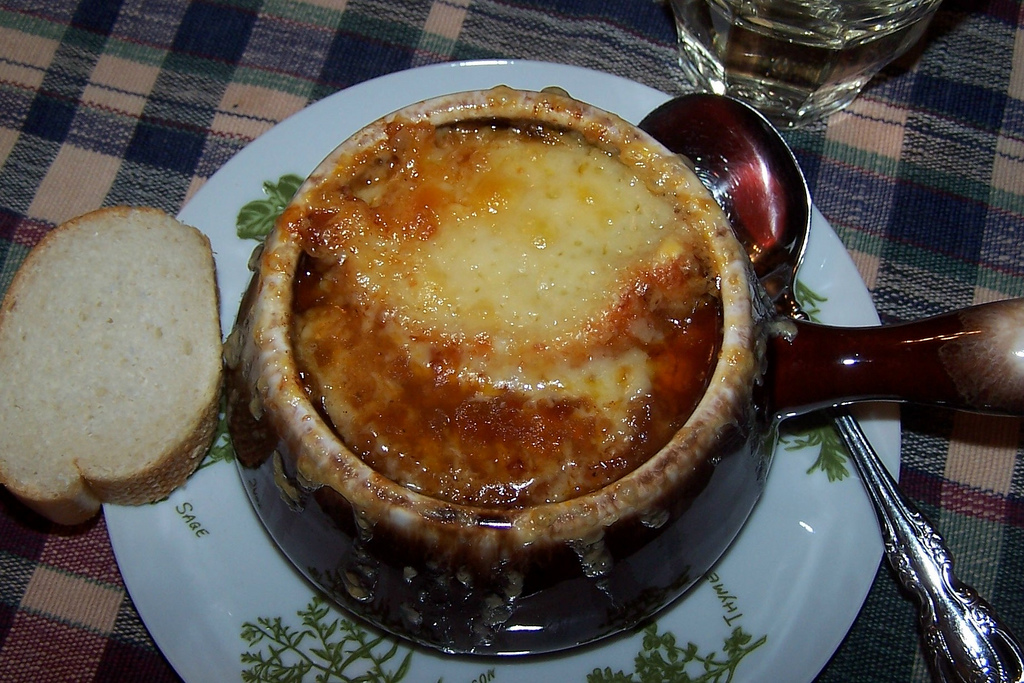slice of bread: (6, 236, 227, 520)
